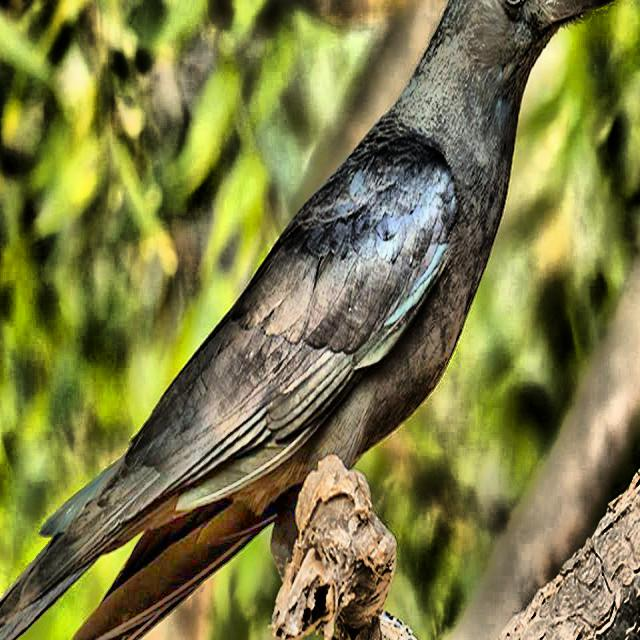crow: (1, 2, 635, 640)
